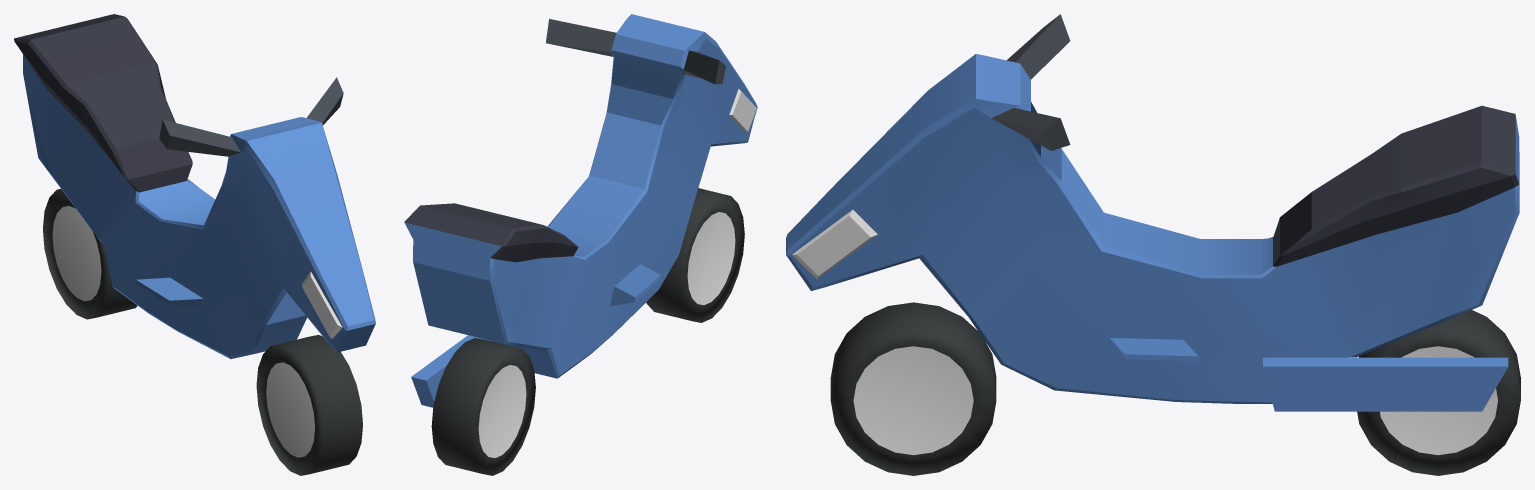
File: motorcycle 2 blue.fbx
3 views of the same model, side by side, from view 1: azimuth 30°, elevation 25°; view 2: azimuth 150°, elevation 25°; view 3: azimuth 270°, elevation 25° (orthographic). The views are drawn at different scales.
Visible parts, largest first — view 1: motorcycle_2_blue; view 2: motorcycle_2_blue; view 3: motorcycle_2_blue.
Boxes of the visible parts, <box> form: motorcycle_2_blue: <box>14,14,375,475</box>; motorcycle_2_blue: <box>404,14,757,475</box>; motorcycle_2_blue: <box>786,14,1520,475</box>.
Size of the model in its own units: 33.42 by 59.46 by 99.48.
